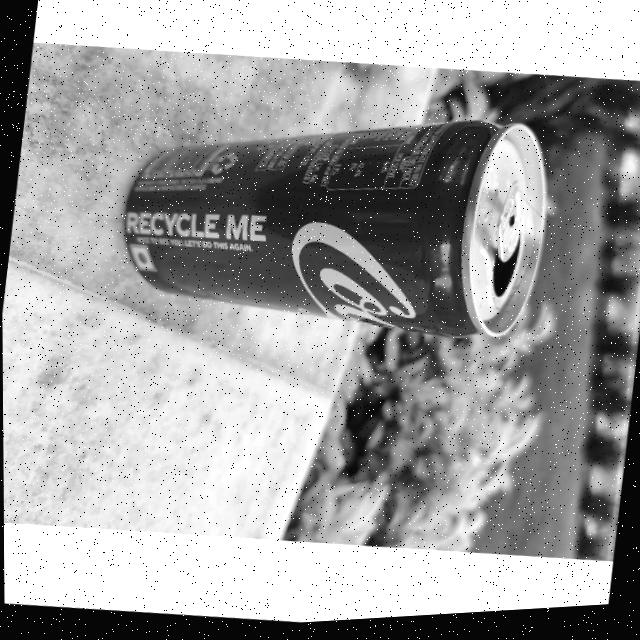Coca Cola: (105, 71, 563, 382)
